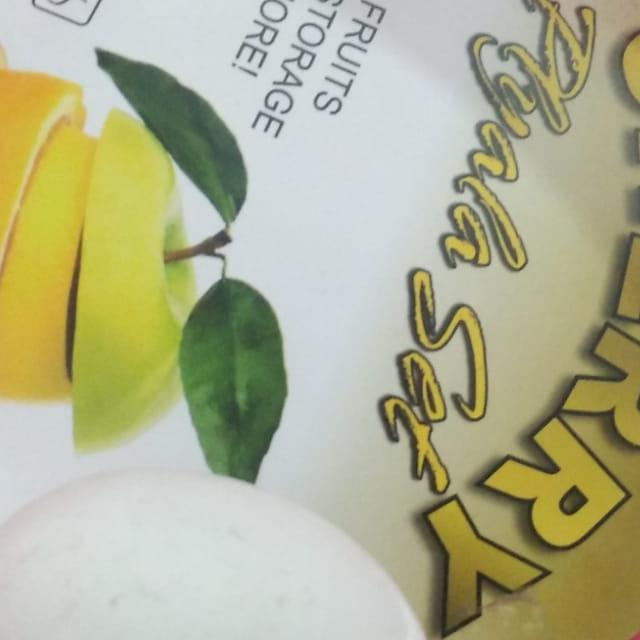egg: (0, 447, 412, 640)
